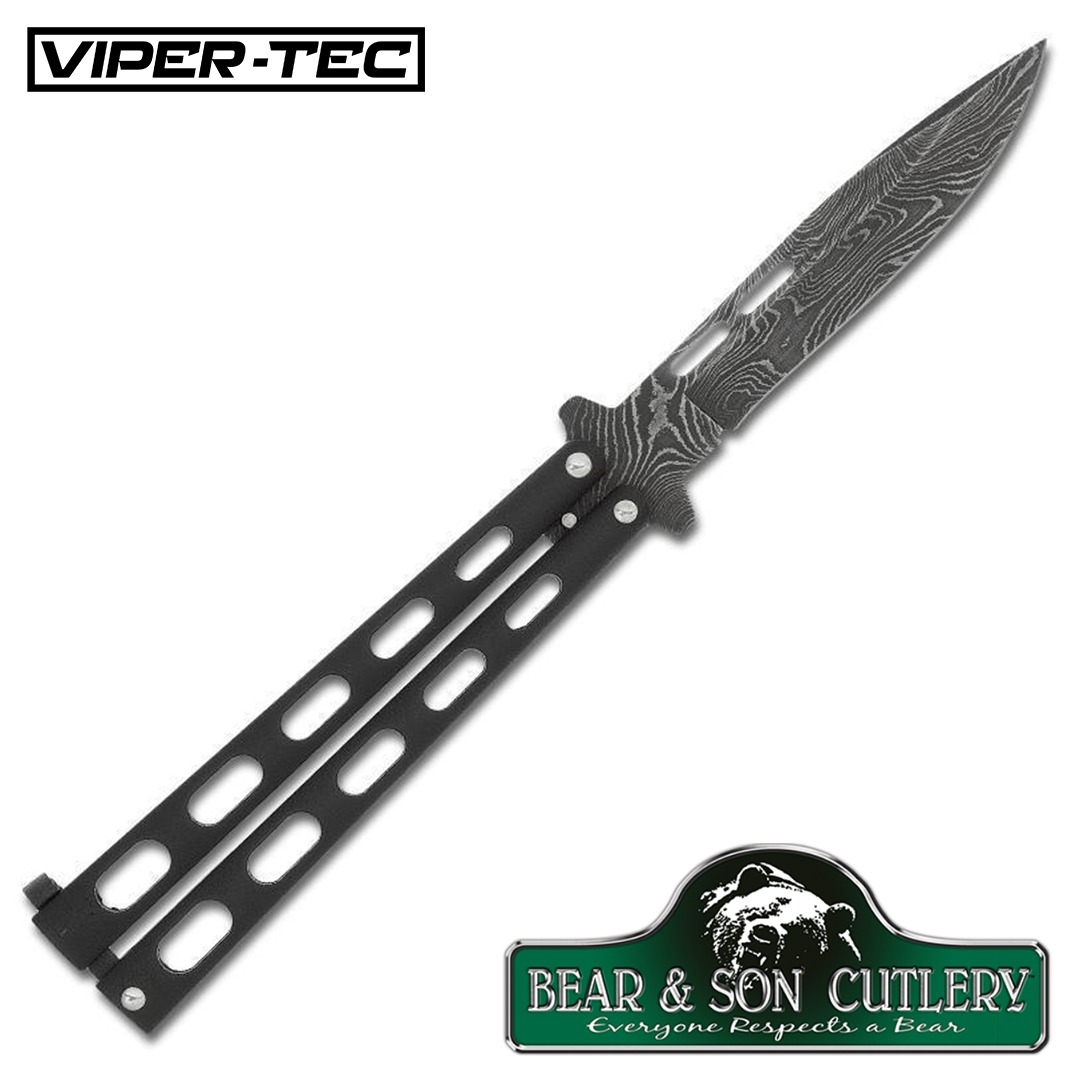knife: (32, 34, 1056, 1046)
